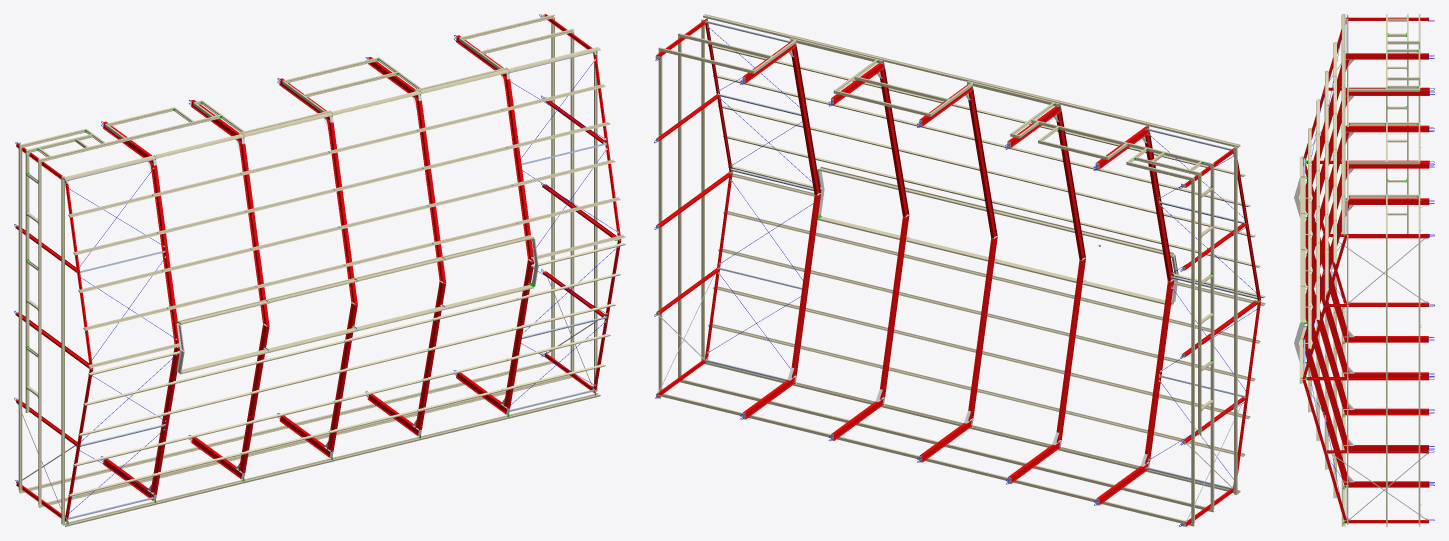
The picture shows the model from 3 angles, left to right: view 1: azimuth 30°, elevation 25°; view 2: azimuth 150°, elevation 25°; view 3: azimuth 270°, elevation 25°; orthographic projection. The views are drawn at different scales.
Parts seen in each view (by area): view 1: 3+A 107873 IPE330 LIGGER S235JR, 5 107948 IPE330 LIGGER S235JR, 3B 107898 IPE330 LIGGER S235JR, 3B 107923 IPE330 LIGGER S235JR, 1 103021 IPE330 LIGGER S235JR, 4B 107899 IPE330 LIGGER S235JR, 4+A 107874 IPE330 LIGGER S235JR, 4B 107924 IPE330 LIGGER S235JR, 6 107949 IPE330 LIGGER S235JR, 2 103022 IPE330 LIGGER S235JR; view 2: 4B 107924 IPE330 LIGGER S235JR, 4B 107899 IPE330 LIGGER S235JR, 6 107949 IPE330 LIGGER S235JR, 4+A 107874 IPE330 LIGGER S235JR, 2 103022 IPE330 LIGGER S235JR, 3B 107898 IPE330 LIGGER S235JR, 5 107948 IPE330 LIGGER S235JR, 3B 107923 IPE330 LIGGER S235JR, 3+A 107873 IPE330 LIGGER S235JR, 1 103021 IPE330 LIGGER S235JR; view 3: 6 107949 IPE330 LIGGER S235JR, 4B 107924 IPE330 LIGGER S235JR, 4B 107899 IPE330 LIGGER S235JR, 9 101032 IPE330 KOLOM S235JR, 11 101129 IPE330 KOLOM S235JR, 4+A 107874 IPE330 LIGGER S235JR, 5 107948 IPE330 LIGGER S235JR, 3B 107898 IPE330 LIGGER S235JR, 1 103021 IPE330 LIGGER S235JR, 3+A 107873 IPE330 LIGGER S235JR, 3B 107923 IPE330 LIGGER S235JR, 10 101080 IPE330 KOLOM S235JR (+38 smaller).
Part boxes in pixels (x1=…): 3+A 107873 IPE330 LIGGER S235JR: x1=238, y1=142, x2=269, y2=326; 5 107948 IPE330 LIGGER S235JR: x1=503, y1=77, x2=534, y2=261; 3B 107898 IPE330 LIGGER S235JR: x1=327, y1=120, x2=357, y2=304; 3B 107923 IPE330 LIGGER S235JR: x1=415, y1=99, x2=446, y2=283; 1 103021 IPE330 LIGGER S235JR: x1=150, y1=163, x2=179, y2=347; 4B 107899 IPE330 LIGGER S235JR: x1=327, y1=303, x2=357, y2=451; 4+A 107874 IPE330 LIGGER S235JR: x1=238, y1=324, x2=269, y2=473; 4B 107924 IPE330 LIGGER S235JR: x1=415, y1=281, x2=445, y2=430; 6 107949 IPE330 LIGGER S235JR: x1=503, y1=260, x2=534, y2=408; 2 103022 IPE330 LIGGER S235JR: x1=150, y1=347, x2=179, y2=494; 4B 107924 IPE330 LIGGER S235JR: x1=880, y1=215, x2=909, y2=399; 4B 107899 IPE330 LIGGER S235JR: x1=968, y1=237, x2=997, y2=421; 6 107949 IPE330 LIGGER S235JR: x1=791, y1=194, x2=820, y2=378; 4+A 107874 IPE330 LIGGER S235JR: x1=1056, y1=258, x2=1085, y2=442; 2 103022 IPE330 LIGGER S235JR: x1=1145, y1=280, x2=1174, y2=464; 3B 107898 IPE330 LIGGER S235JR: x1=968, y1=89, x2=997, y2=238; 5 107948 IPE330 LIGGER S235JR: x1=791, y1=46, x2=820, y2=195; 3B 107923 IPE330 LIGGER S235JR: x1=880, y1=68, x2=909, y2=217; 3+A 107873 IPE330 LIGGER S235JR: x1=1056, y1=111, x2=1085, y2=260; 1 103021 IPE330 LIGGER S235JR: x1=1145, y1=133, x2=1173, y2=281; 6 107949 IPE330 LIGGER S235JR: x1=1303, y1=344, x2=1349, y2=481; 4B 107924 IPE330 LIGGER S235JR: x1=1305, y1=307, x2=1349, y2=445; 4B 107899 IPE330 LIGGER S235JR: x1=1305, y1=271, x2=1349, y2=409; 9 101032 IPE330 KOLOM S235JR: x1=1345, y1=125, x2=1429, y2=132; 11 101129 IPE330 KOLOM S235JR: x1=1344, y1=408, x2=1428, y2=415; 4+A 107874 IPE330 LIGGER S235JR: x1=1305, y1=235, x2=1349, y2=372; 5 107948 IPE330 LIGGER S235JR: x1=1303, y1=205, x2=1349, y2=342; 3B 107898 IPE330 LIGGER S235JR: x1=1305, y1=132, x2=1348, y2=270; 1 103021 IPE330 LIGGER S235JR: x1=1305, y1=60, x2=1349, y2=197; 3+A 107873 IPE330 LIGGER S235JR: x1=1305, y1=96, x2=1349, y2=233; 3B 107923 IPE330 LIGGER S235JR: x1=1305, y1=168, x2=1349, y2=306; 10 101080 IPE330 KOLOM S235JR: x1=1345, y1=198, x2=1429, y2=204.
Bounding box in the file's own units: 29040 × 18040 × 7862.
